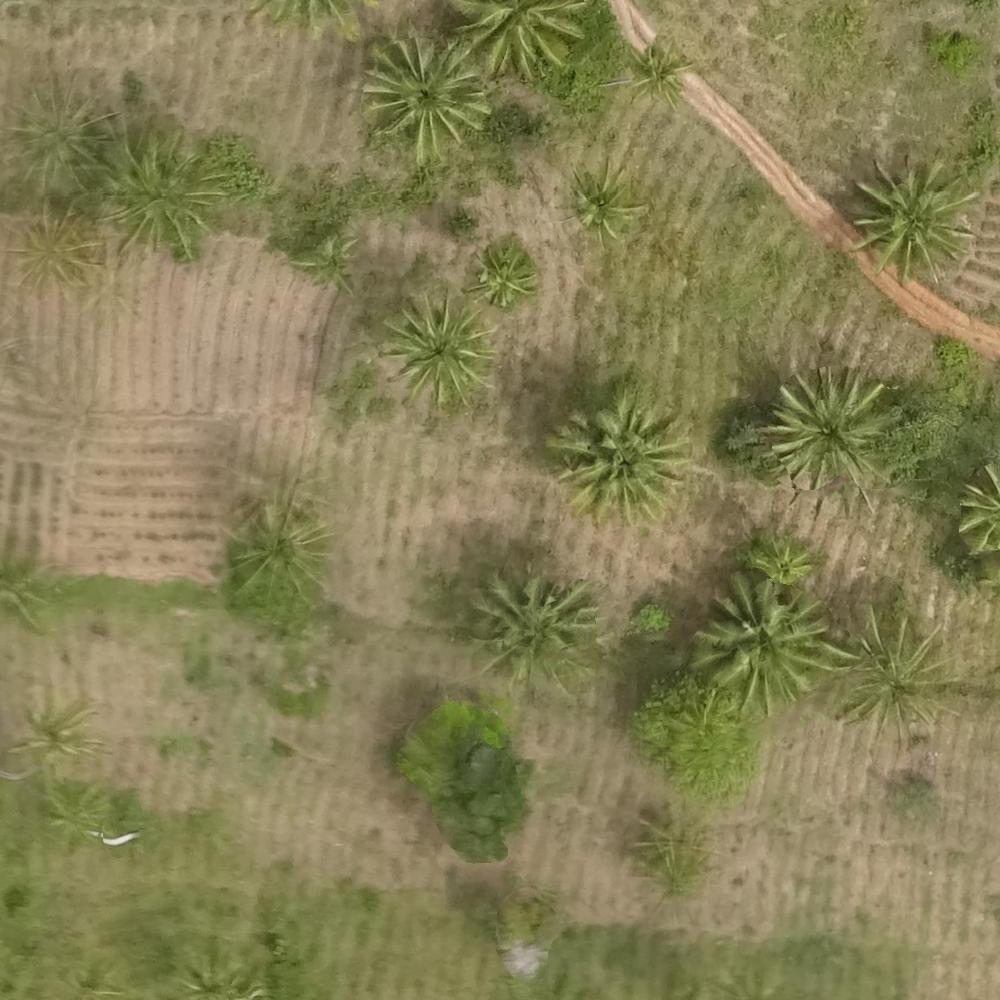Palm: (771, 368, 894, 502), (550, 396, 678, 522), (692, 574, 821, 698), (833, 616, 957, 741), (468, 568, 595, 686), (359, 40, 487, 155), (854, 161, 968, 275), (380, 299, 493, 409), (107, 145, 219, 254), (225, 504, 324, 596), (558, 166, 641, 236), (616, 42, 691, 105), (464, 244, 532, 310), (741, 529, 813, 590)
